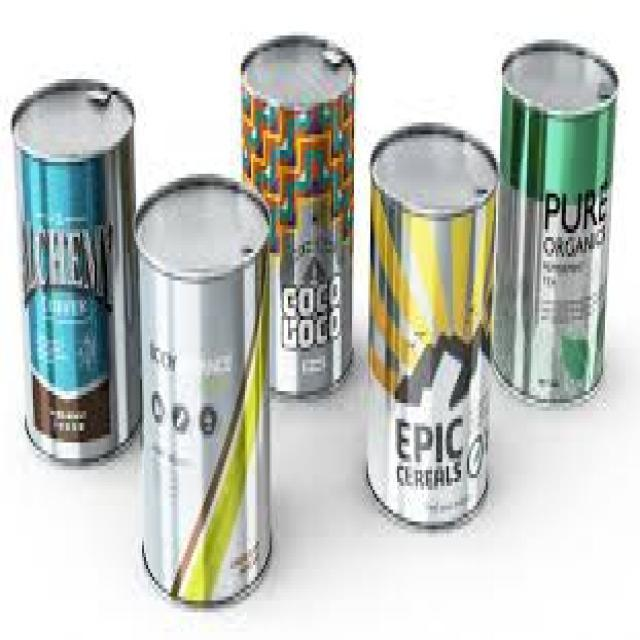recyclable: (132, 171, 272, 611), (10, 80, 142, 470), (240, 34, 358, 400)
